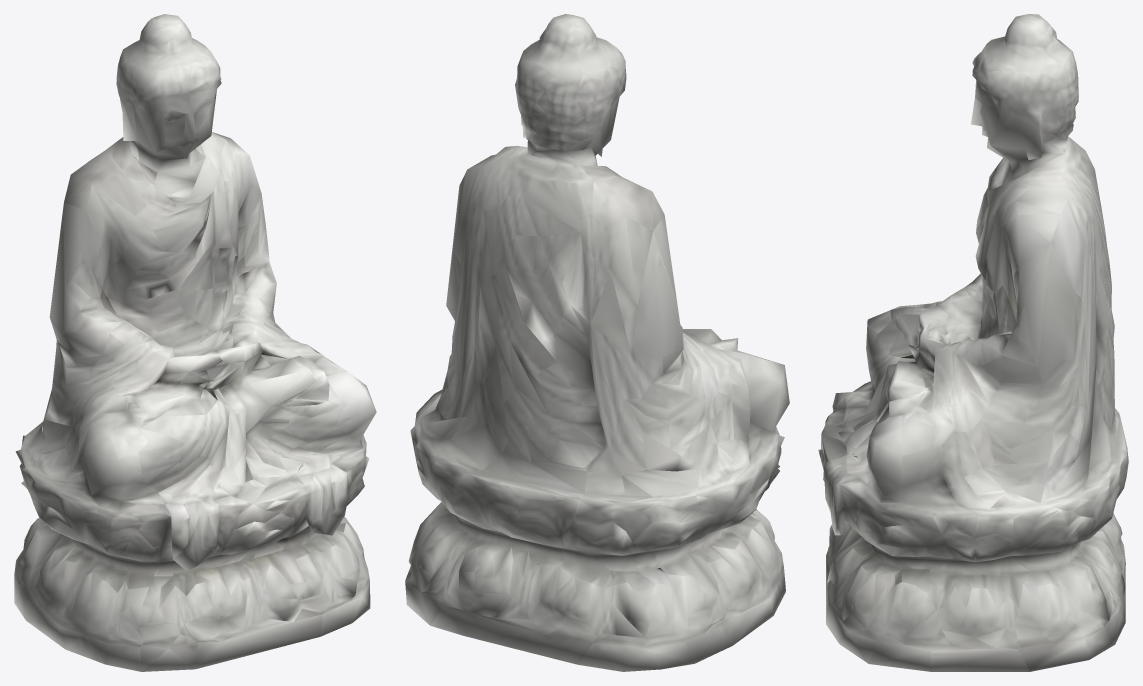
The model's file is far.glb.
3 renders of one model, left to right at view 1: azimuth 30°, elevation 25°; view 2: azimuth 150°, elevation 25°; view 3: azimuth 270°, elevation 25°, orthographic. The views are drawn at different scales.
Visible parts, largest first — view 1: statue-bodhi; view 2: statue-bodhi; view 3: statue-bodhi.
Part boxes in pixels (bbox=[...]): statue-bodhi: bbox=[14, 14, 376, 671]; statue-bodhi: bbox=[405, 14, 789, 671]; statue-bodhi: bbox=[818, 14, 1128, 671].
Bounding box in the file's own units: 0.5619 × 0.9976 × 0.4825.
1 material, 1 textured.
